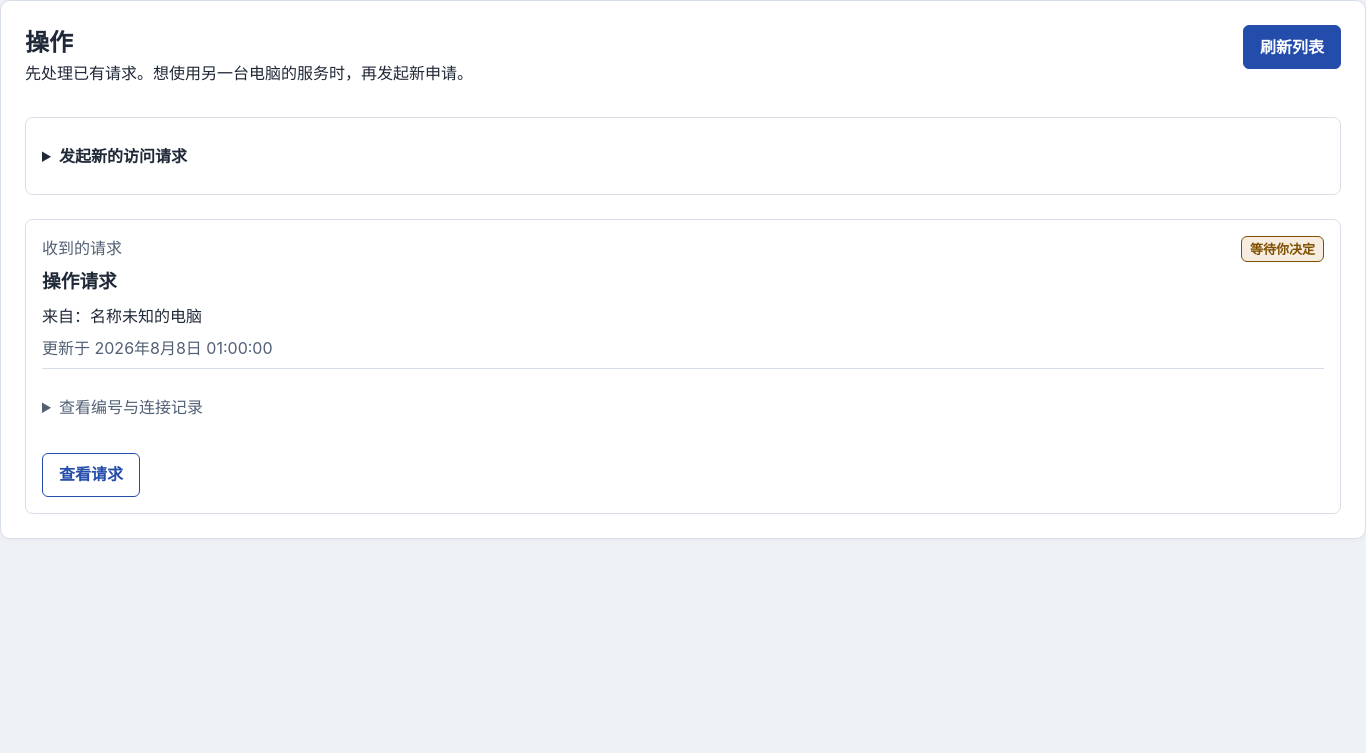
Test: OperationsListPage › 刷新失败时保留并明确标记陈旧列表
Step 1. Click the button "刷新列表" → point(1292, 47), box [1243, 25, 1341, 69]
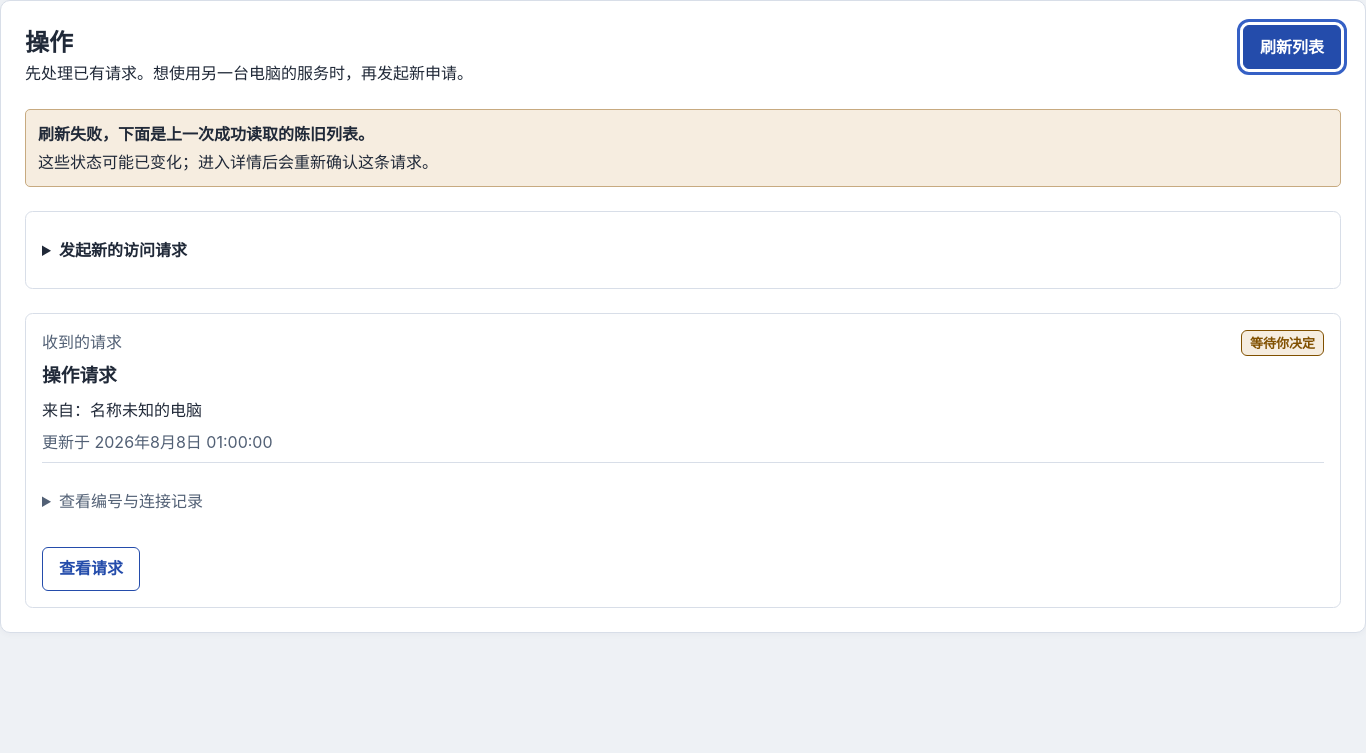
Expected: the text "旧列表里的工具" is not shown
Now the text "刷新失败，下面是上一次成功读取的陈旧列表。" is shown, box [38, 124, 374, 144]
Step 2. Click the heading "查看编号与连接记录" → point(131, 501), box [59, 491, 203, 511]
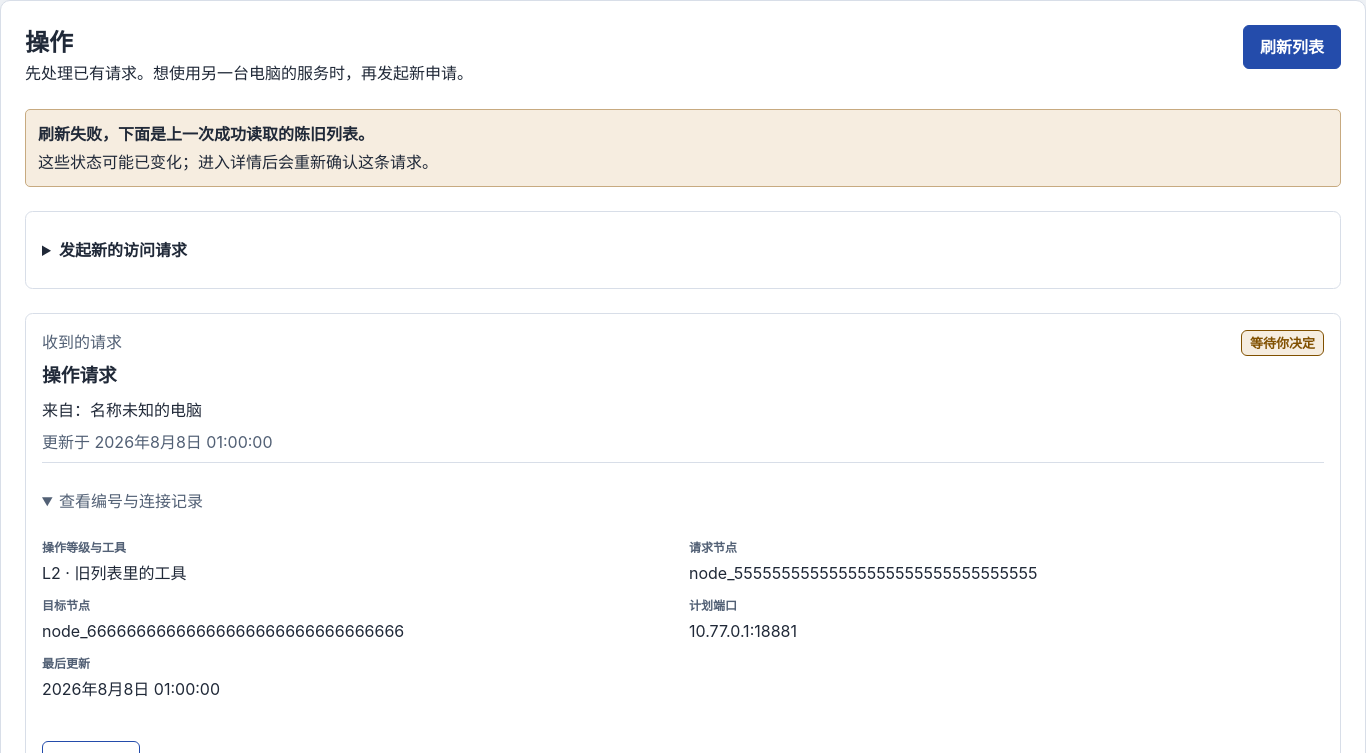
Now the text "这些状态可能已变化；进入详情后会重新确认这条请求。" is shown, box [38, 152, 438, 172]
Now the text "L2 · 旧列表里的工具" is shown, box [42, 563, 186, 583]
